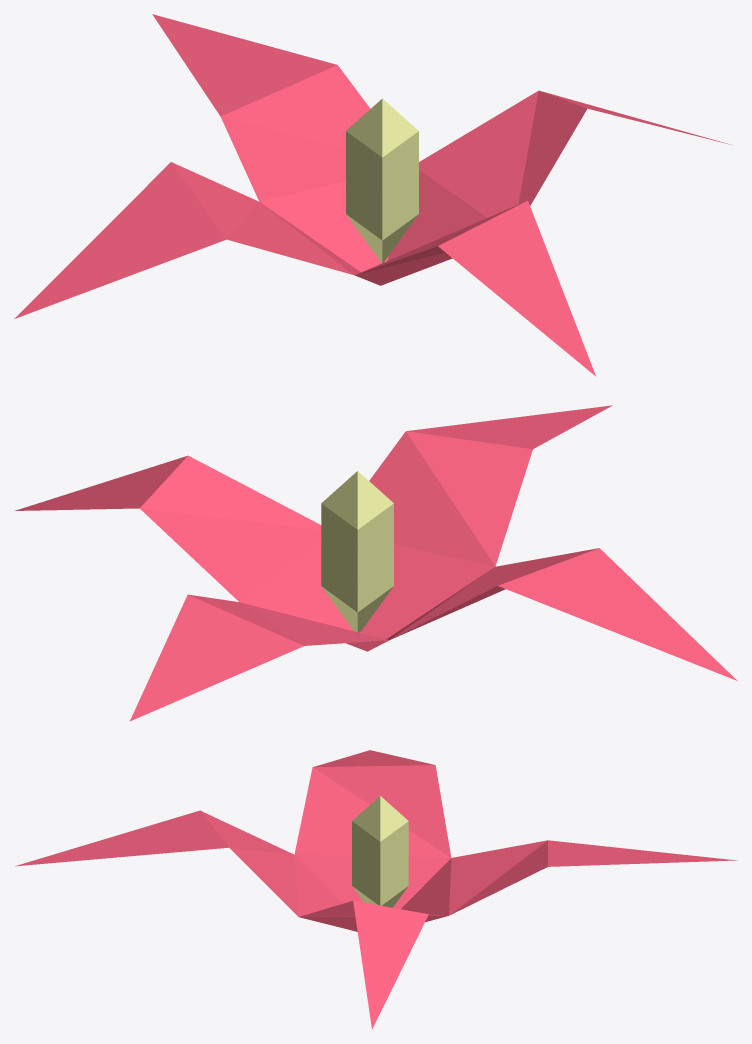
The model's file is Flower1.fbx.
3 views of the same model, one above another, from view 1: azimuth 30°, elevation 25°; view 2: azimuth 150°, elevation 25°; view 3: azimuth 270°, elevation 25° (orthographic). The views are drawn at different scales.
Parts seen in each view (by area): view 1: Flower1; view 2: Flower1; view 3: Flower1.
Boxes of the visible parts, box(x1,y1,x2,y2) form: Flower1: box(14, 14, 732, 376); Flower1: box(15, 405, 737, 721); Flower1: box(15, 750, 737, 1029).
Bounding box in the file's own units: 37.85 × 9.13 × 42.01.
